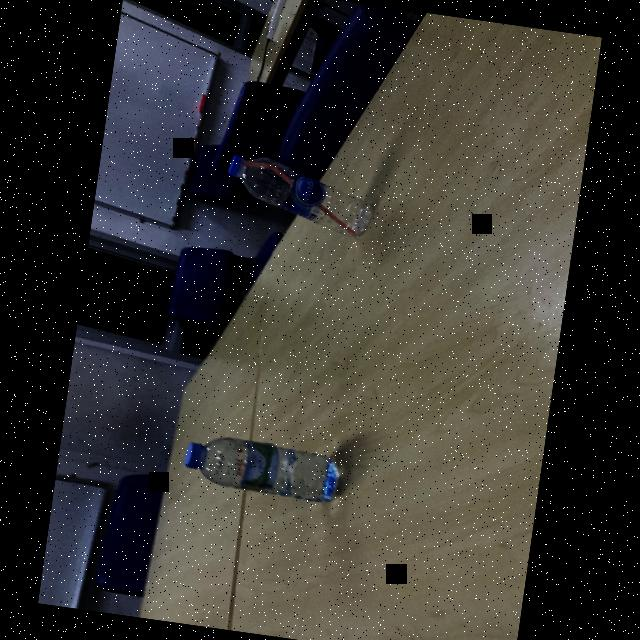plastic_bottle: (219, 150, 378, 238), (180, 432, 344, 504)
plastic_bottle_cap: (184, 439, 208, 471), (224, 153, 247, 179)
straw: (232, 156, 373, 243)
